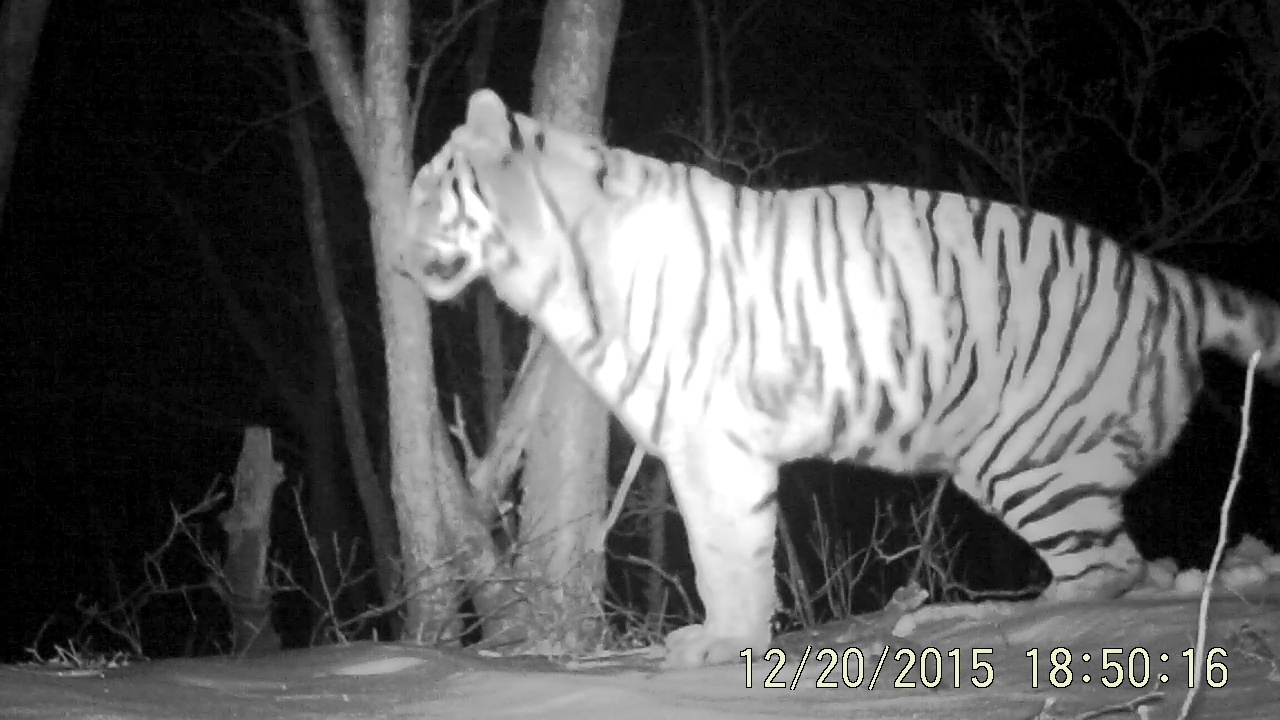Tiger: (293, 49, 1280, 647)
